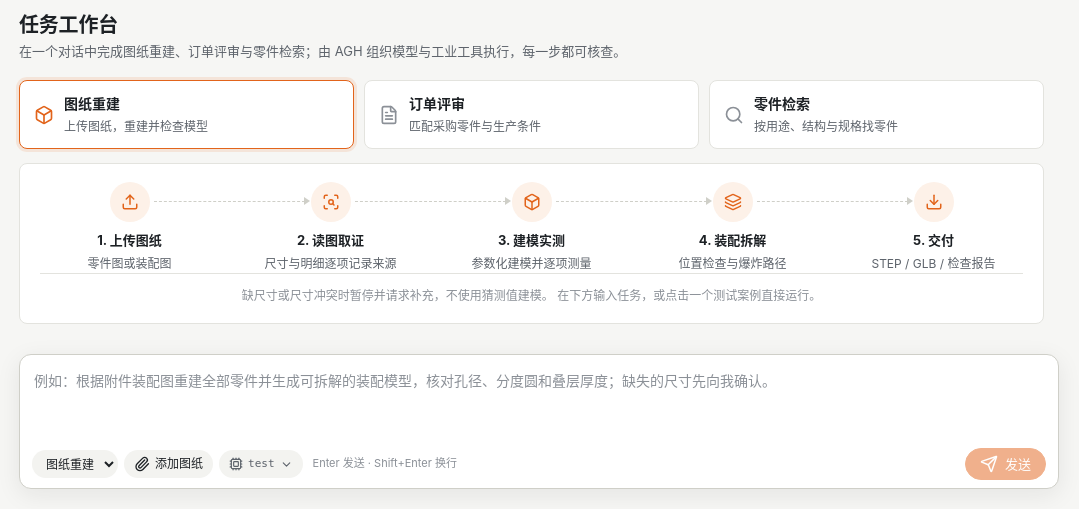
it: shows direct Agnes cancellation and uses the server cancellation result
Select "零件检索" in the dropdown named "任务类型" at (75, 464), box 32,450 -> 118,478
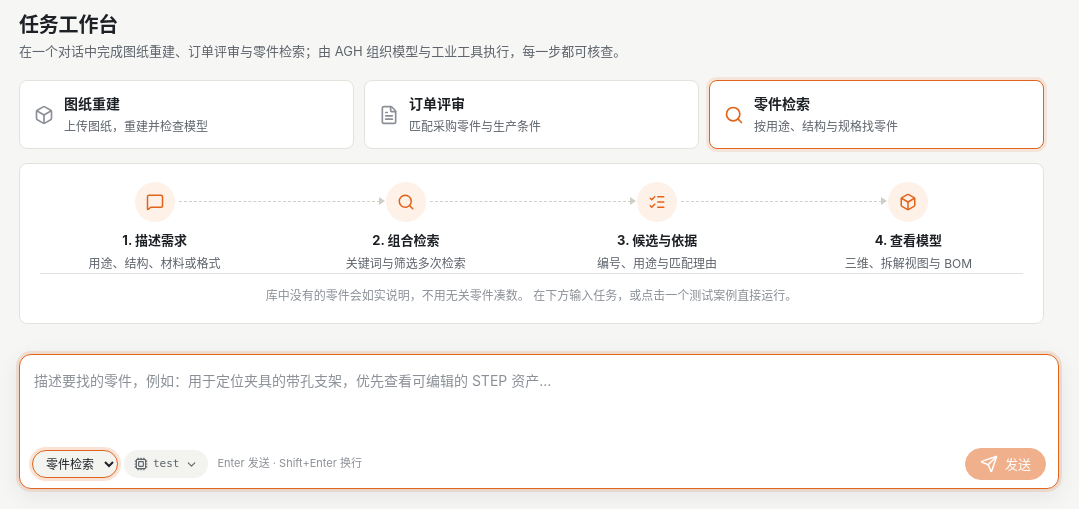
Type "查找法兰" into the text box named "这次需要完成什么？" at (539, 403), box 32,365 -> 1046,442
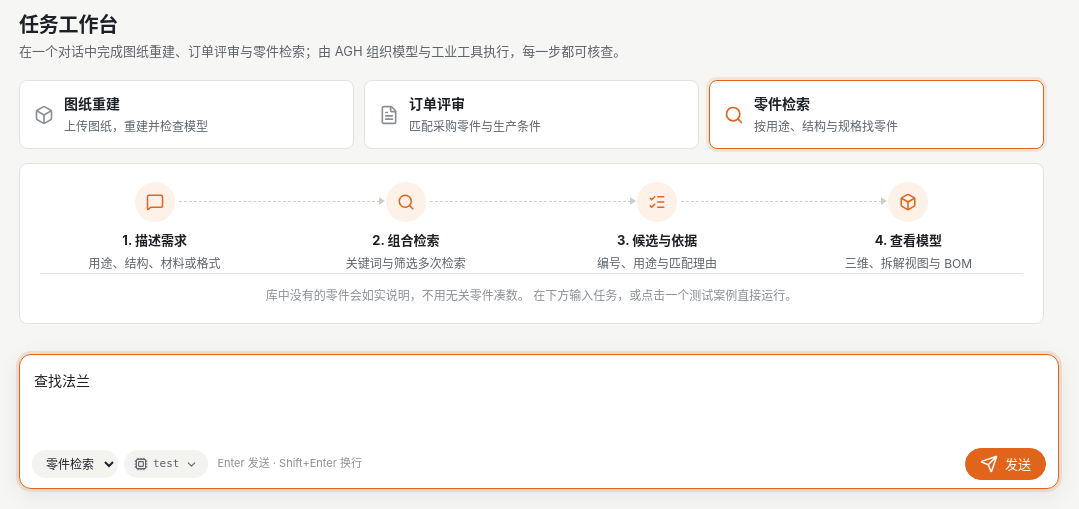
Click the button with aria-label "开始任务" at (1006, 464), box 965,448 -> 1046,480
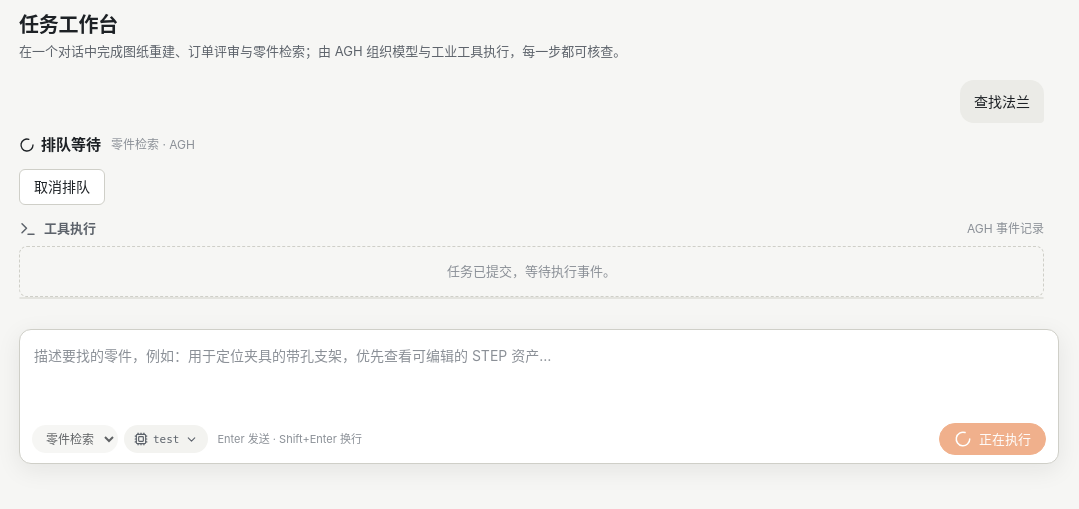
Click the button "取消排队" at (62, 187), box 19,169 -> 105,205
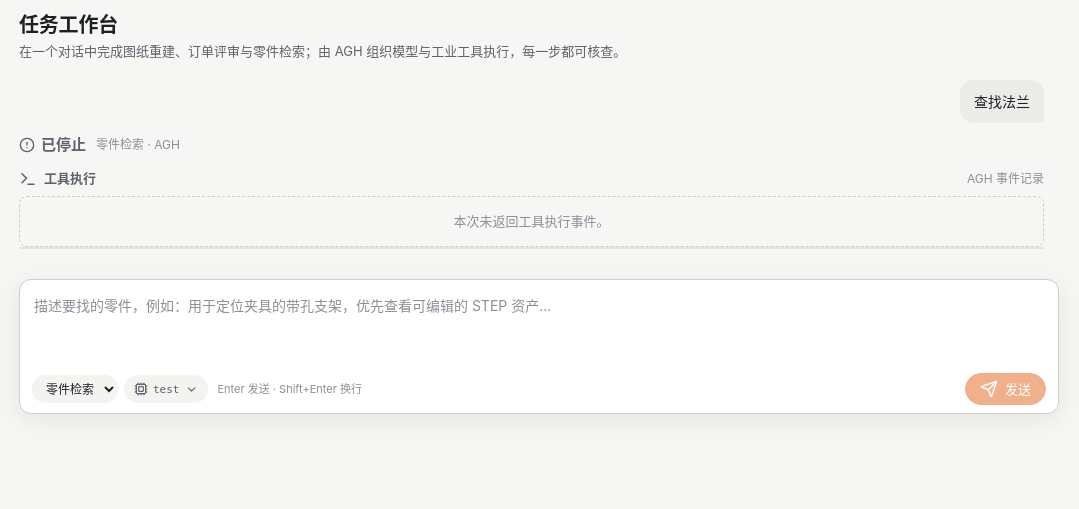
expect the heading "已停止" is shown: met, box 41,135 -> 86,155
